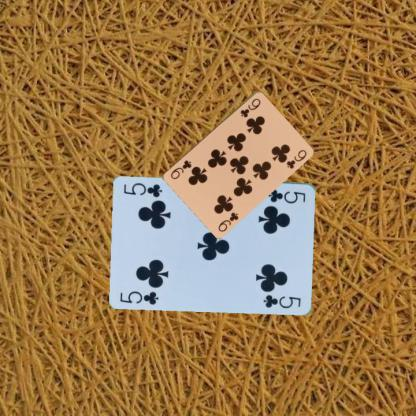5c: (117, 288, 160, 306), (266, 186, 307, 204)
9c: (215, 209, 240, 233), (237, 95, 262, 118)
